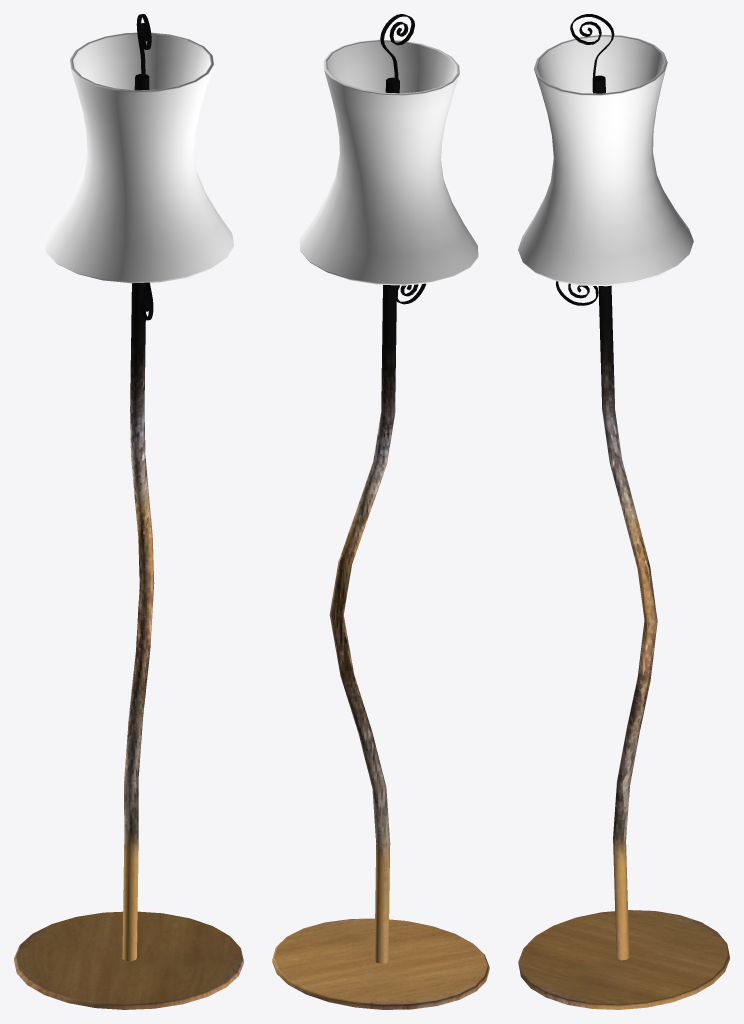
The model's file is light01.obj.
The picture shows the model from 3 angles, left to right: view 1: azimuth 30°, elevation 25°; view 2: azimuth 150°, elevation 25°; view 3: azimuth 270°, elevation 25°; orthographic projection. The views are drawn at different scales.
Parts seen in each view (by area): view 1: node_id5, node_id7; view 2: node_id5, node_id7; view 3: node_id5, node_id7.
Boxes of the visible parts, <box> form: node_id5: <box>44,32,234,283</box>; node_id7: <box>14,14,243,1009</box>; node_id5: <box>299,39,478,285</box>; node_id7: <box>272,14,489,1009</box>; node_id5: <box>518,35,693,286</box>; node_id7: <box>518,14,729,1009</box>.
Bounding box in the file's own units: 1.11 × 5.13 × 1.04.
Materials: 2 (2 with a texture image).
